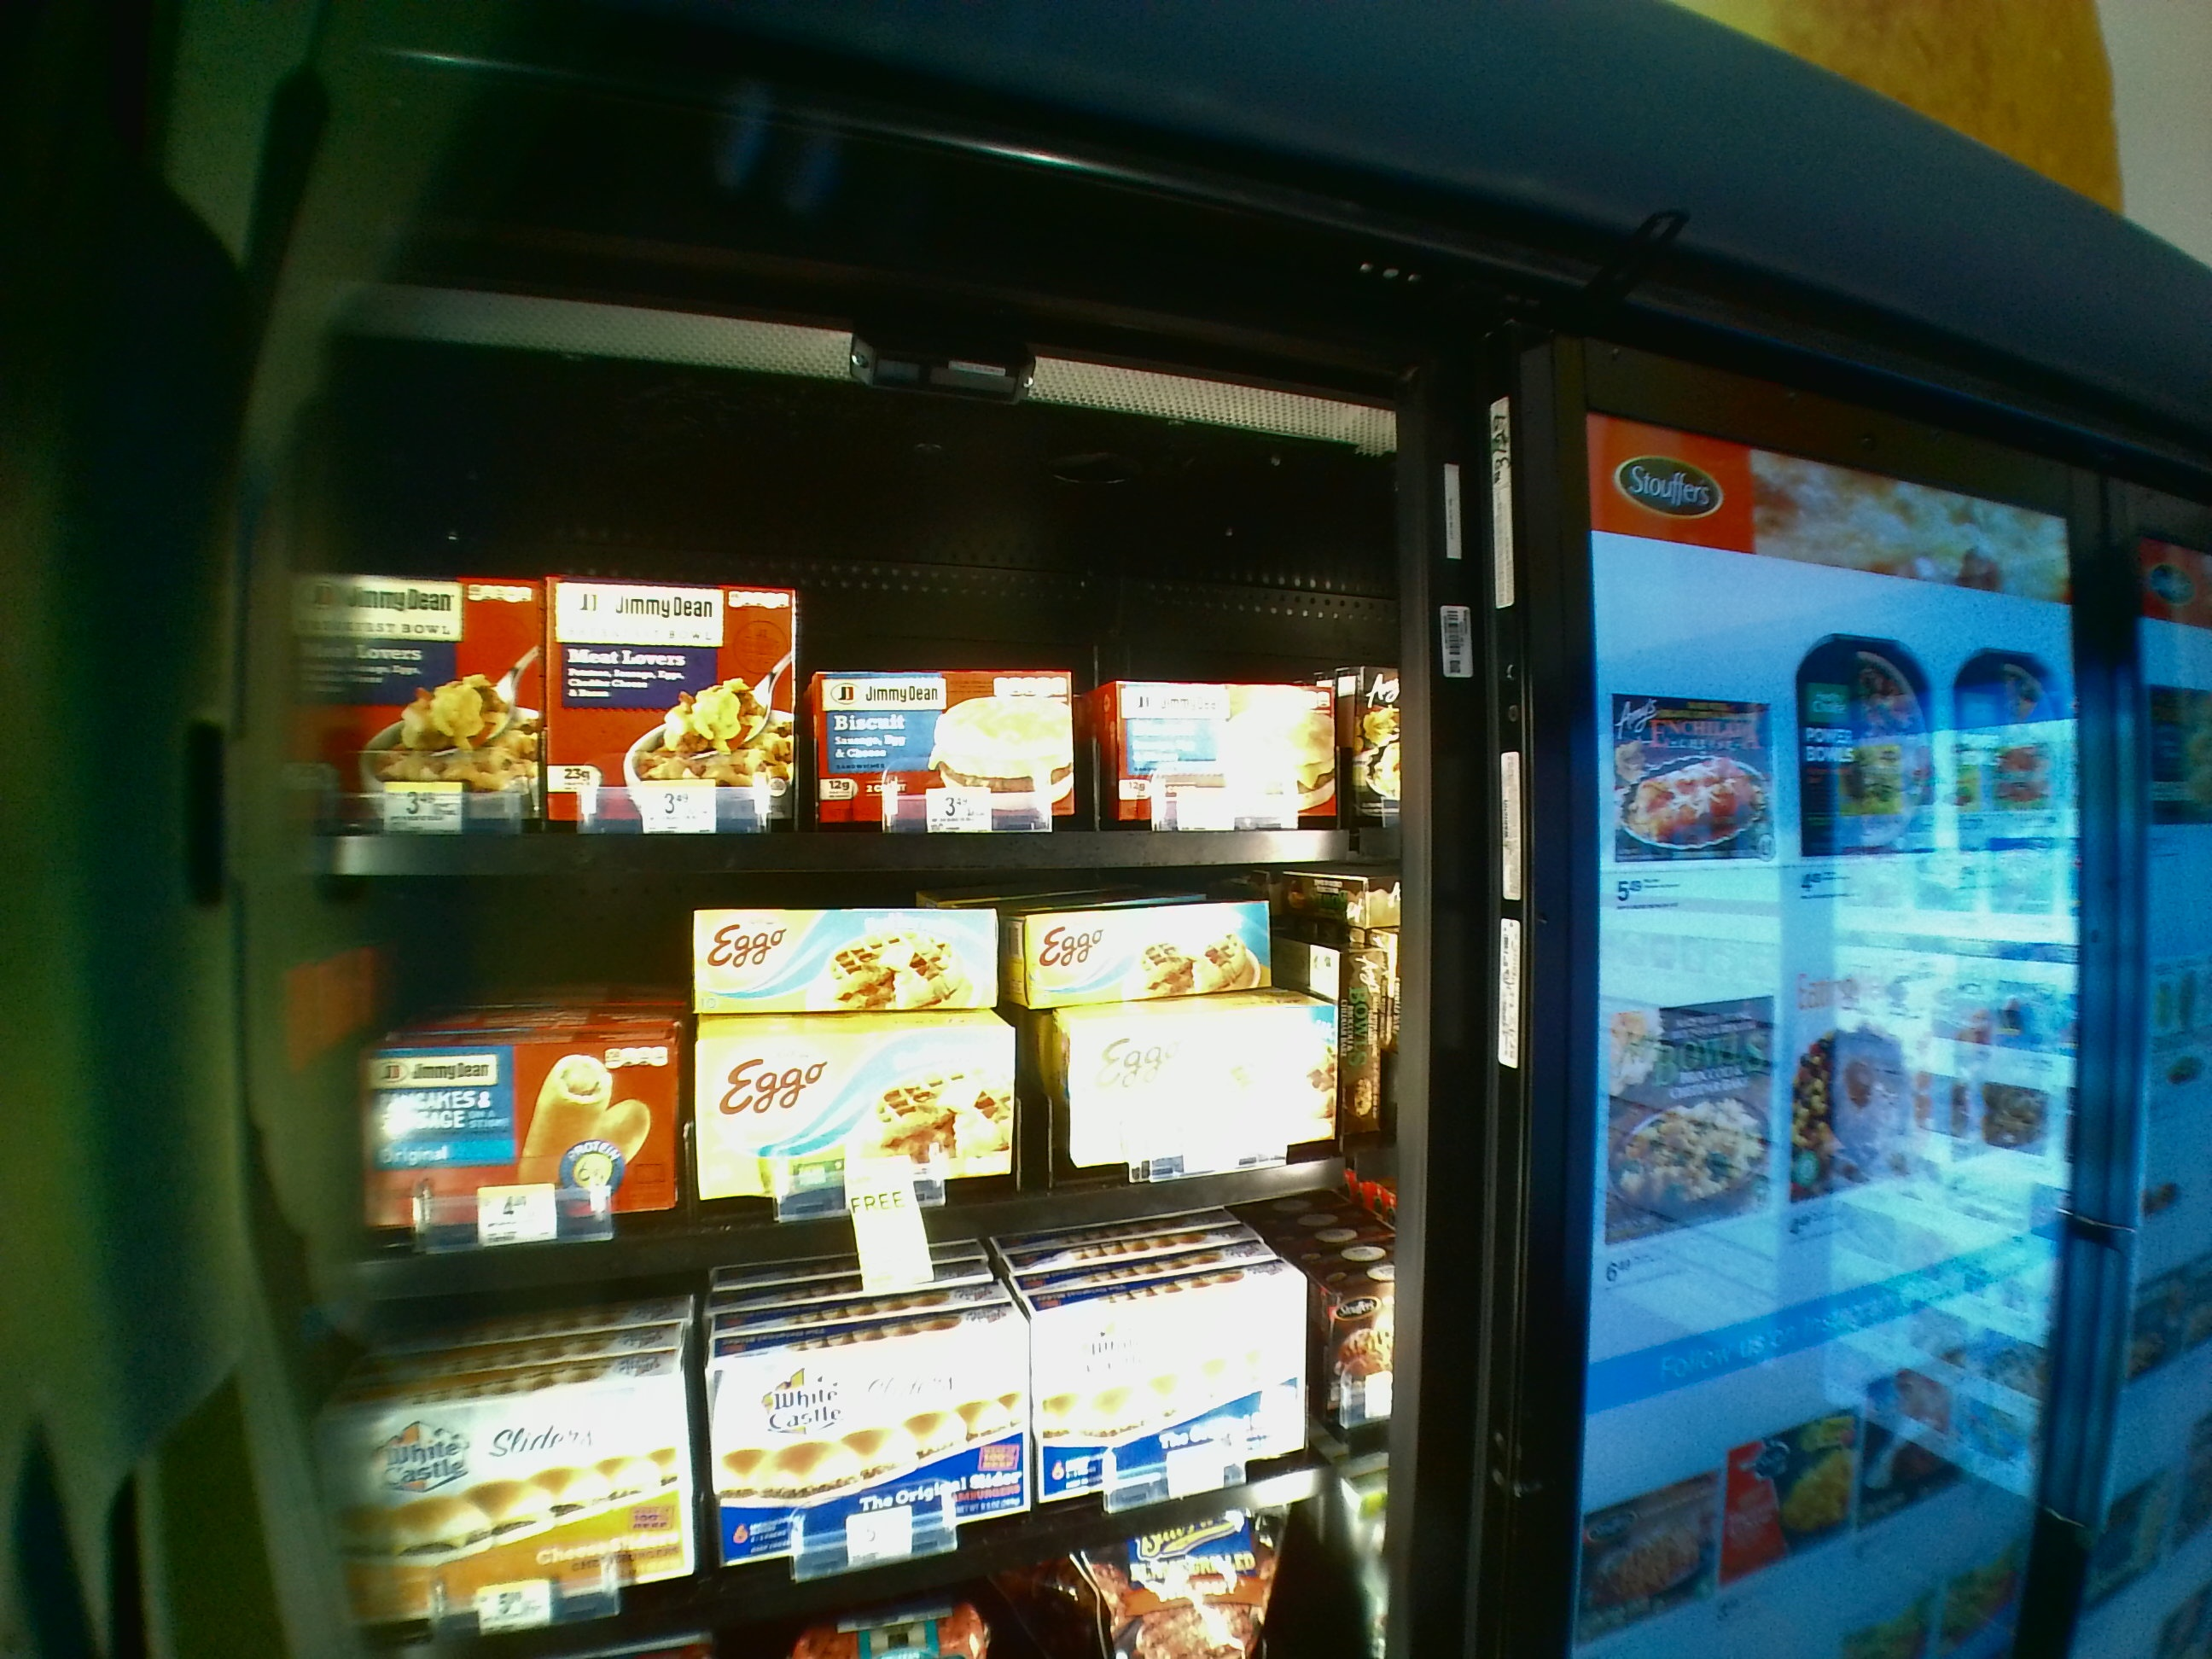shelf: (303, 889, 1395, 1324), (294, 457, 1393, 877)
